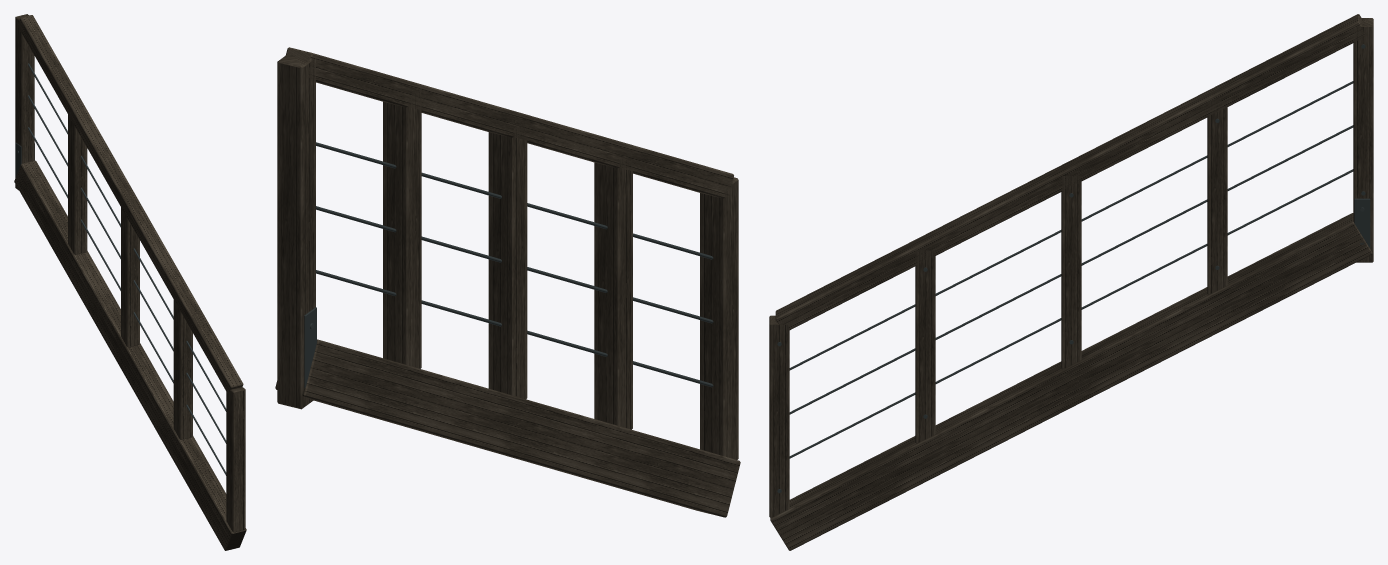
The picture shows the model from 3 angles, left to right: view 1: azimuth 30°, elevation 25°; view 2: azimuth 150°, elevation 25°; view 3: azimuth 270°, elevation 25°; orthographic projection. The views are drawn at different scales.
Visible parts, largest first — view 1: Mesh_dark, Mesh_iron; view 2: Mesh_dark, Mesh_iron; view 3: Mesh_dark, Mesh_iron.
Part boxes in pixels (x1,y1,x2,y2): Mesh_dark: (14,14,246,550); Mesh_iron: (15,63,226,475); Mesh_dark: (275,47,740,517); Mesh_iron: (304,142,713,387); Mesh_dark: (769,14,1373,550); Mesh_iron: (777,44,1370,493).
Size of the model in its own units: 0.12 by 2.88 by 2.98.
2 materials, 1 textured.
